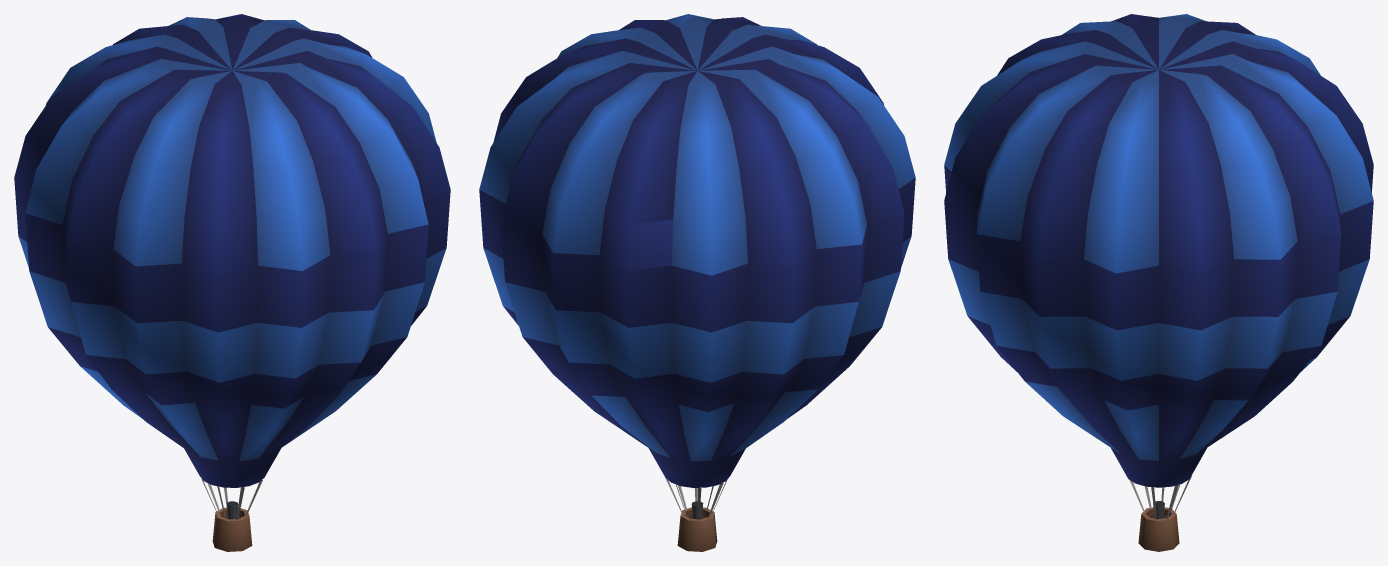
File: vehicles-aircraft-hot-air-balloon_v7.fbx
3 renders of one model, left to right at view 1: azimuth 30°, elevation 25°; view 2: azimuth 150°, elevation 25°; view 3: azimuth 270°, elevation 25°, orthographic.
Parts seen in each view (by area): view 1: Hot Air Balloon_v7; view 2: Hot Air Balloon_v7; view 3: Hot Air Balloon_v7.
Part boxes in pixels (x1,y1,x2,y2): Hot Air Balloon_v7: (14,14,450,551); Hot Air Balloon_v7: (479,14,915,551); Hot Air Balloon_v7: (944,14,1373,551).
Bounding box in the file's own units: 19.42 × 25 × 19.42.
